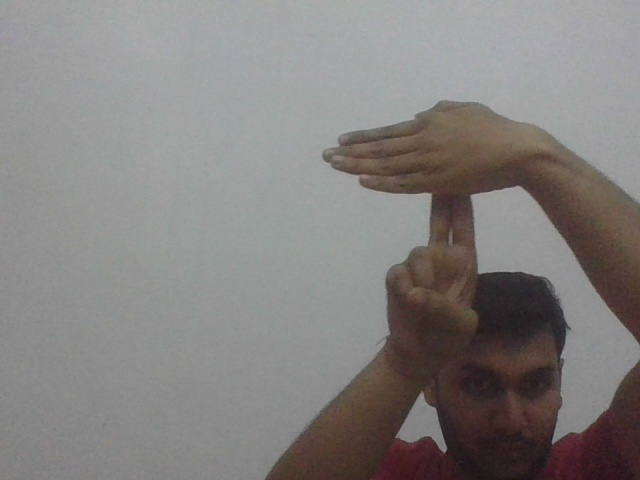N: (319, 97, 514, 247)
